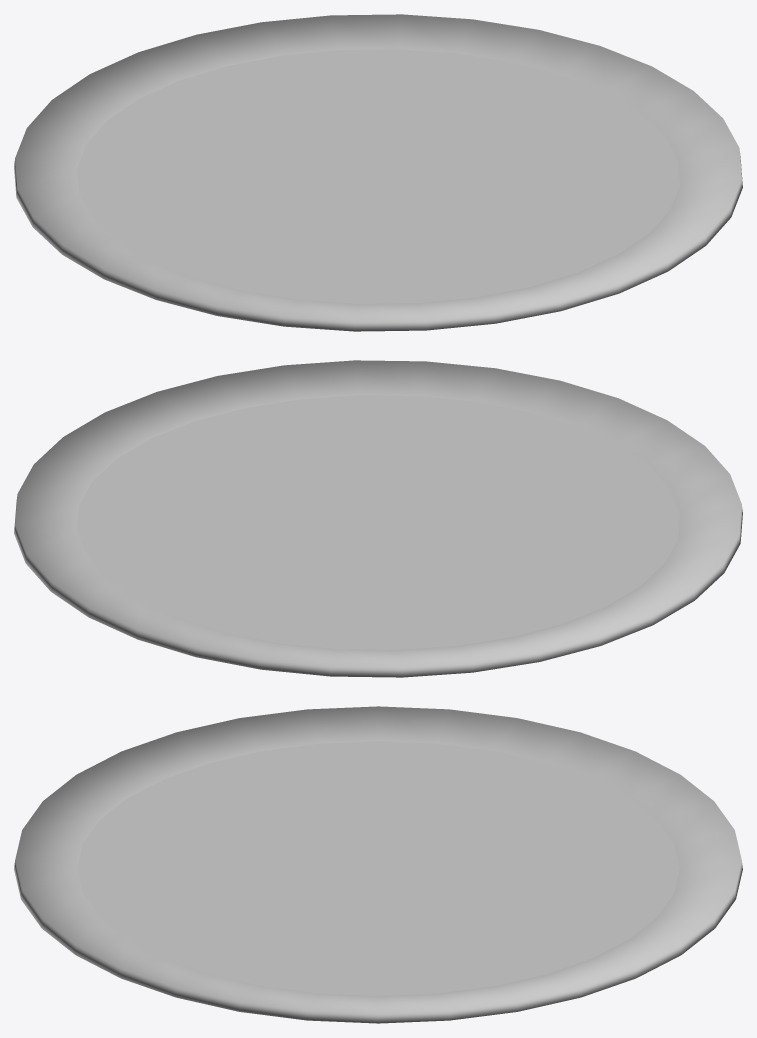
File: plate.glb
The picture shows the model from 3 angles, top to bottom: view 1: azimuth 30°, elevation 25°; view 2: azimuth 150°, elevation 25°; view 3: azimuth 270°, elevation 25°; orthographic projection.
Visible parts, largest first — view 1: plate; view 2: plate; view 3: plate.
Boxes of the visible parts, x1,y1,x2,y2 form: plate: (14, 14, 742, 331); plate: (14, 360, 742, 677); plate: (14, 706, 742, 1023).
Size of the model in its own units: 2.39 by 0.2908 by 2.39.
1 material, 1 textured.
